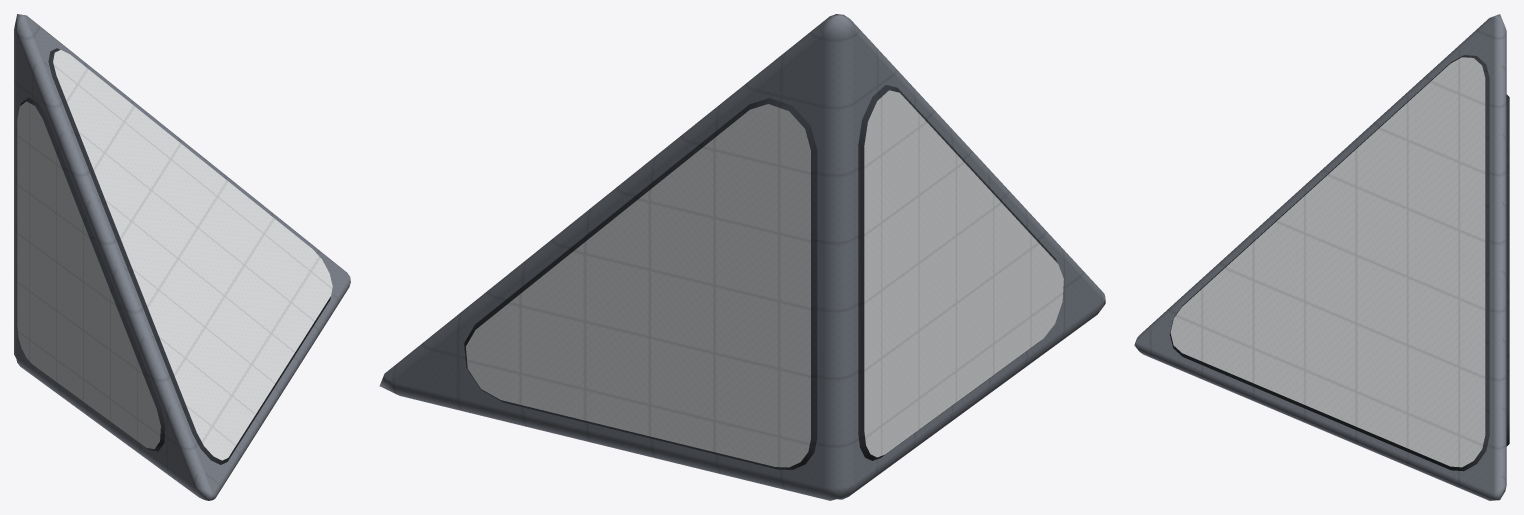
File: R4B_Tetra.glb
3 views of the same model, side by side, from view 1: azimuth 30°, elevation 25°; view 2: azimuth 150°, elevation 25°; view 3: azimuth 270°, elevation 25° (orthographic). The views are drawn at different scales.
Visible parts, largest first — view 1: R4B_Tetra; view 2: R4B_Tetra; view 3: R4B_Tetra.
Part boxes in pixels (x1,y1,x2,y2): R4B_Tetra: (14,14,350,500); R4B_Tetra: (379,14,1105,500); R4B_Tetra: (1134,14,1509,500).
Bounding box in the file's own units: 0.4749 × 0.4749 × 0.4749.
3 materials, 3 textured.
